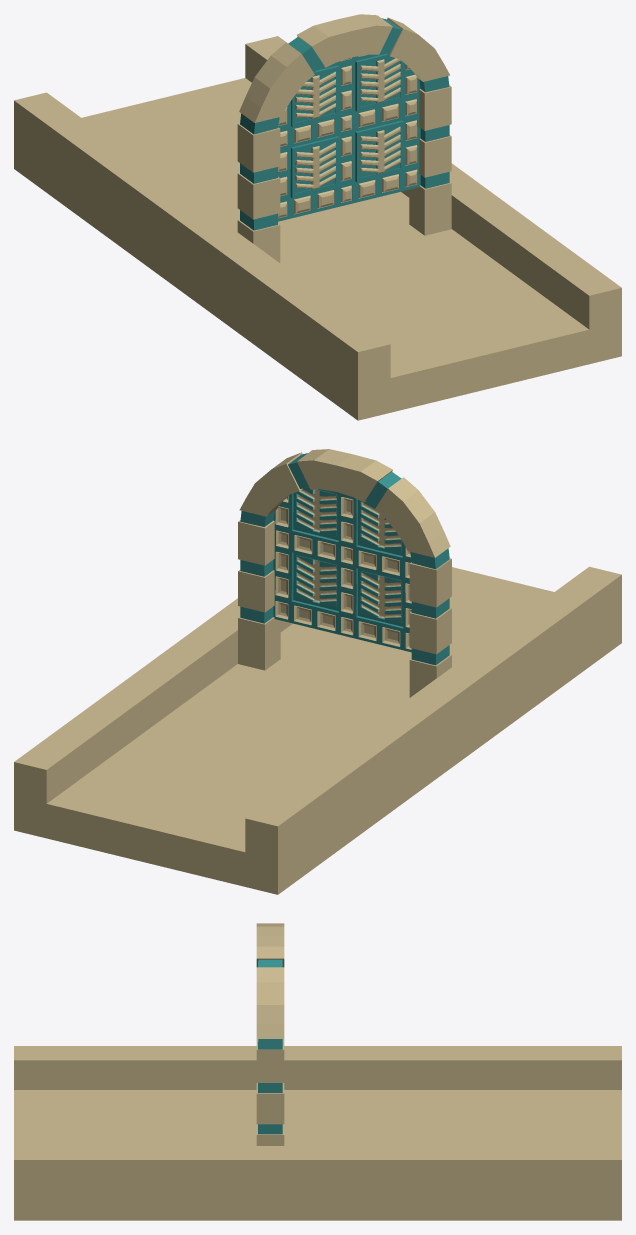
3 views of the same model, one above another, from view 1: azimuth 30°, elevation 25°; view 2: azimuth 150°, elevation 25°; view 3: azimuth 270°, elevation 25° (orthographic). The views are drawn at different scales.
Parts seen in each view (by area): view 1: pl5, doorframe, doorinside; view 2: pl5, doorframe, doorinside; view 3: pl5, doorframe.
Part boxes in pixels (bbox=[...]): pl5: bbox=[14, 36, 621, 420]; doorframe: bbox=[237, 14, 451, 262]; doorinside: bbox=[278, 52, 420, 221]; pl5: bbox=[14, 566, 621, 894]; doorframe: bbox=[238, 449, 451, 697]; doorinside: bbox=[273, 487, 411, 652]; pl5: bbox=[14, 1046, 621, 1220]; doorframe: bbox=[256, 923, 284, 1145].
Size of the model in its own units: 7.98 by 7.42 by 18.
